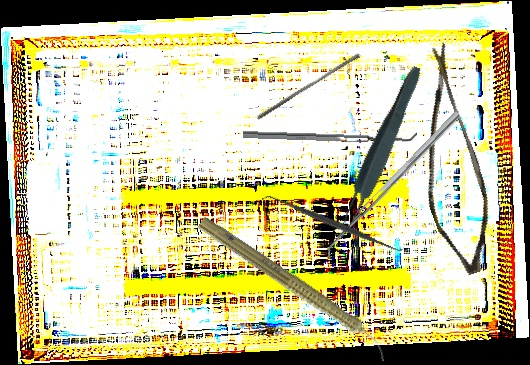Handpiece: (191, 212, 398, 364)
Micro Scissor: (378, 41, 522, 281)
Pusher: (255, 48, 362, 125)
Spatula Surgical: (320, 111, 467, 261), (260, 186, 406, 261), (242, 123, 418, 145)
Tissue Forceps: (333, 62, 428, 236)
